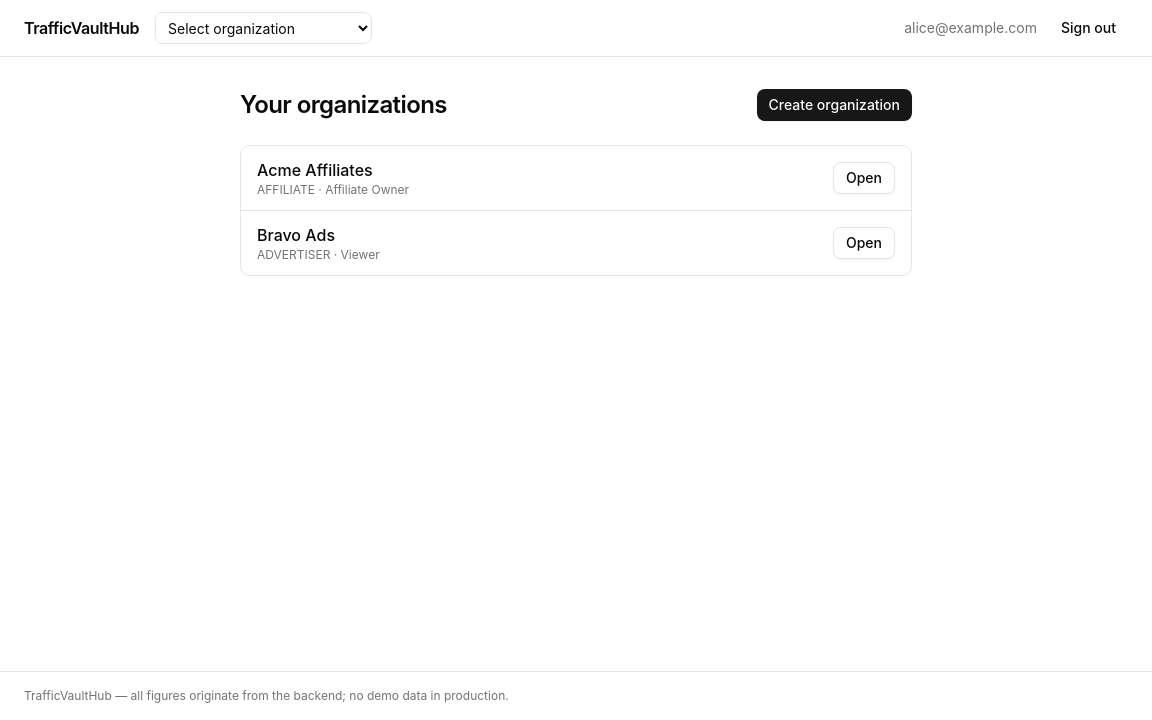
Scenario: authenticated area › /app index + organization switcher › lists several organizations and the switcher navigates between them
Expected: the heading "Your organizations" is shown, x1=240 y1=89 x2=447 y2=121
Select "Bravo Ads · ADVERTISER" in the dropdown named "Organization" at [264, 28], box x1=155 y1=12 x2=372 y2=44
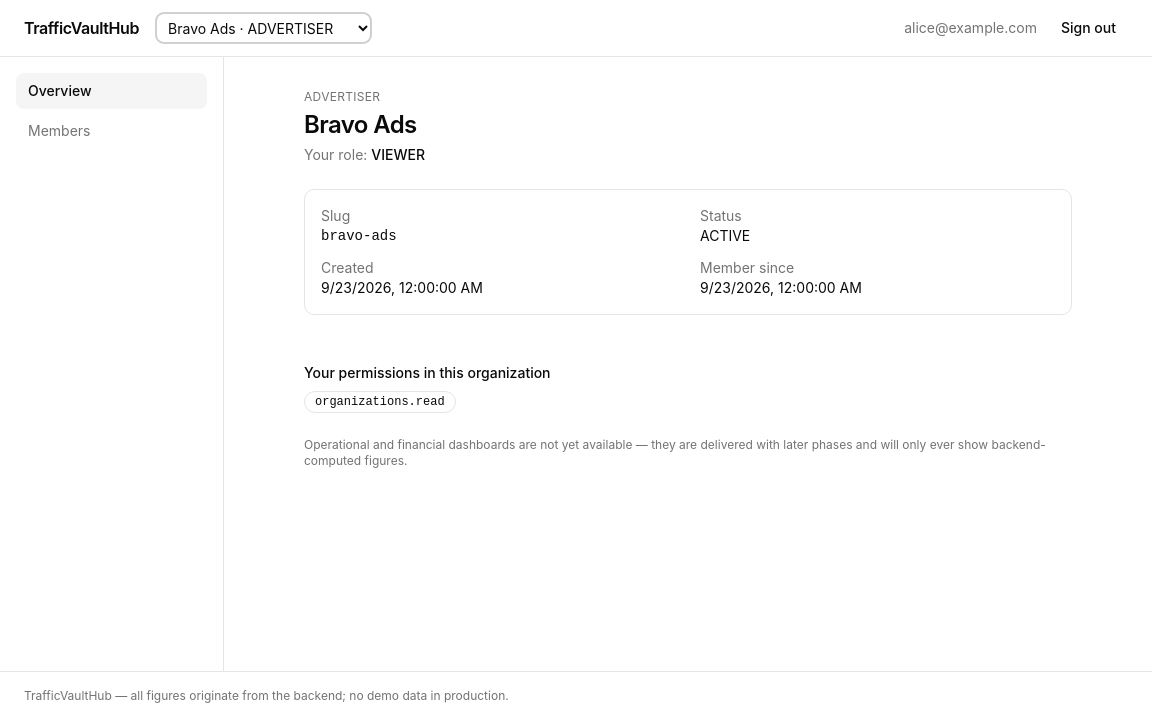
Expected: the text "VIEWER" is shown, x1=371 y1=146 x2=425 y2=163
Result: the heading "Bravo Ads" is shown at x1=304 y1=110 x2=417 y2=139
